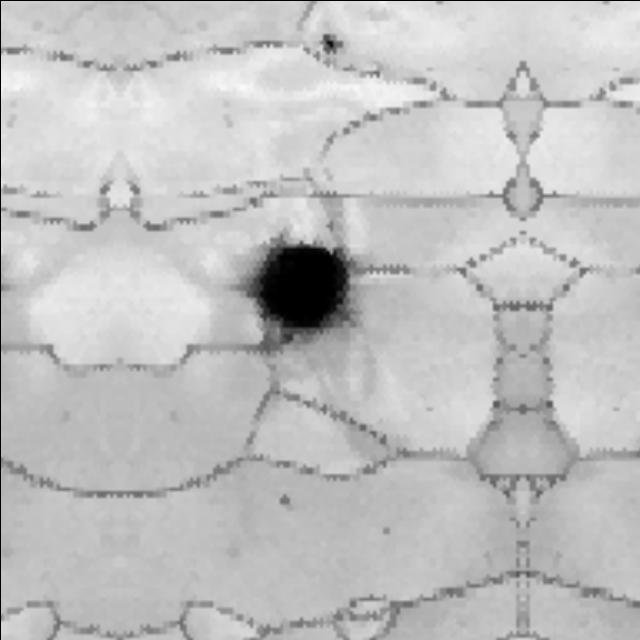good_void: (220, 216, 365, 380), (310, 28, 349, 56), (269, 487, 298, 513), (377, 519, 395, 543), (319, 217, 337, 233)
